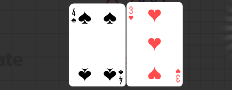3H: (174, 67, 181, 83)
4C: (70, 7, 77, 24)
